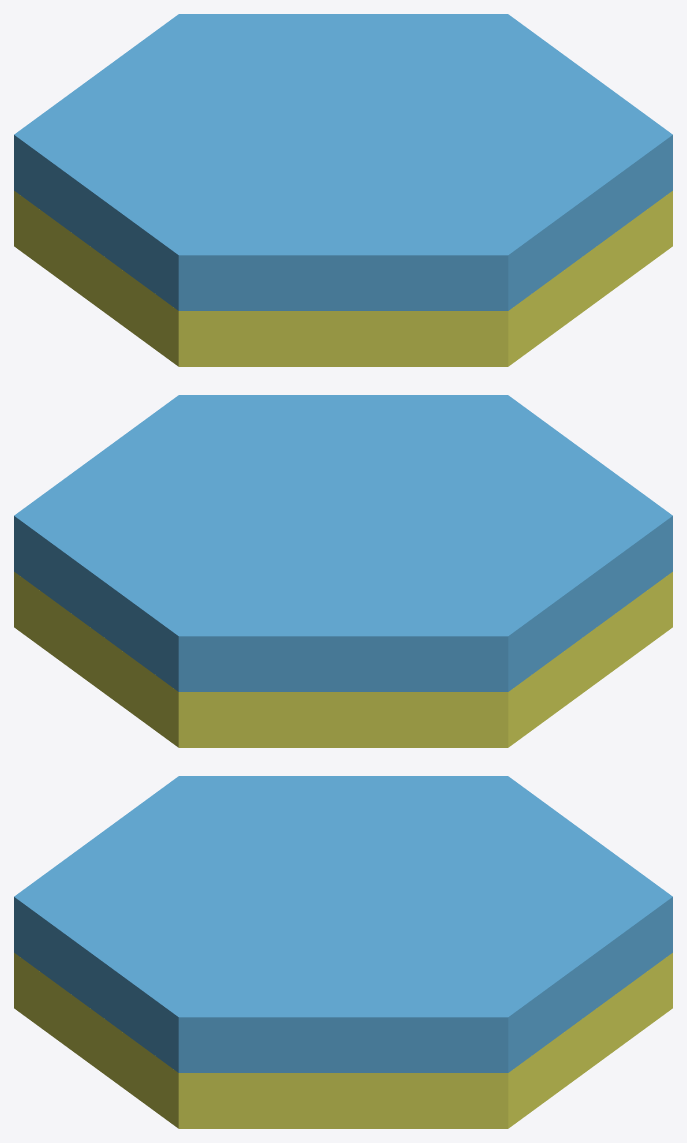
The model's file is HexagonWater.fbx.
3 views of the same model, one above another, from view 1: azimuth 30°, elevation 25°; view 2: azimuth 150°, elevation 25°; view 3: azimuth 270°, elevation 25° (orthographic).
Parts seen in each view (by area): view 1: Circle.001; view 2: Circle.001; view 3: Circle.001.
Boxes of the visible parts, x1=… form: Circle.001: x1=14, y1=14, x2=672, y2=366; Circle.001: x1=14, y1=395, x2=672, y2=747; Circle.001: x1=14, y1=776, x2=672, y2=1128.
Bounding box in the file's own units: 173 × 37.37 × 200.
